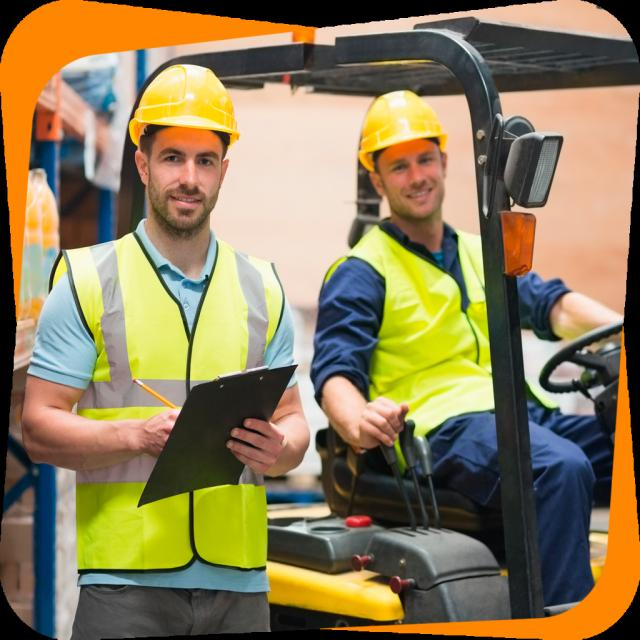helmet: (118, 56, 251, 161), (341, 86, 454, 168)
vest: (42, 226, 298, 578), (306, 206, 509, 460)
